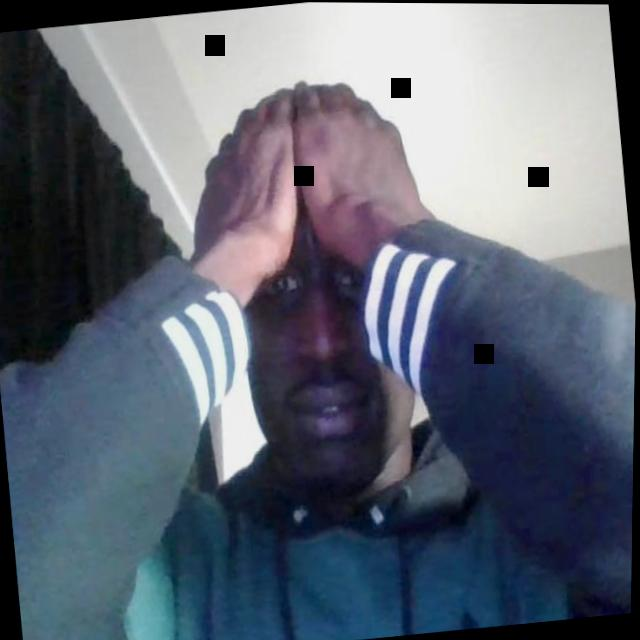NO-Mask: (236, 243, 430, 502)
